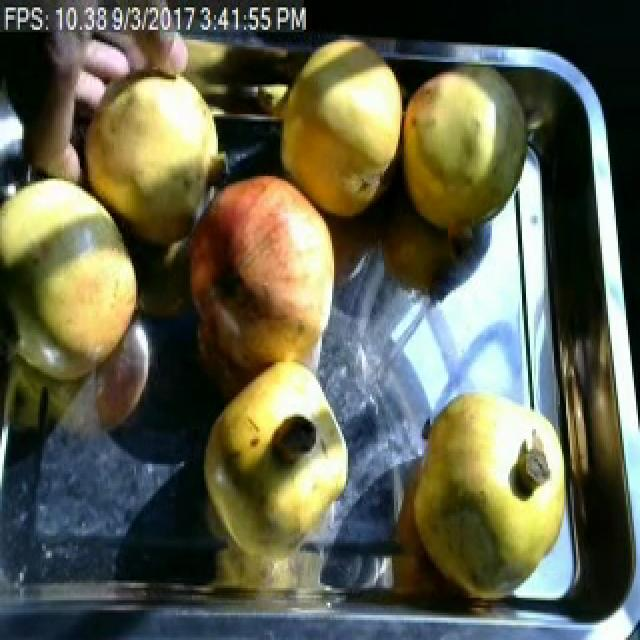fruit: (164, 159, 356, 402), (400, 382, 576, 608), (0, 154, 152, 404), (64, 47, 238, 263), (198, 344, 358, 566), (398, 60, 548, 258), (262, 32, 406, 231)
